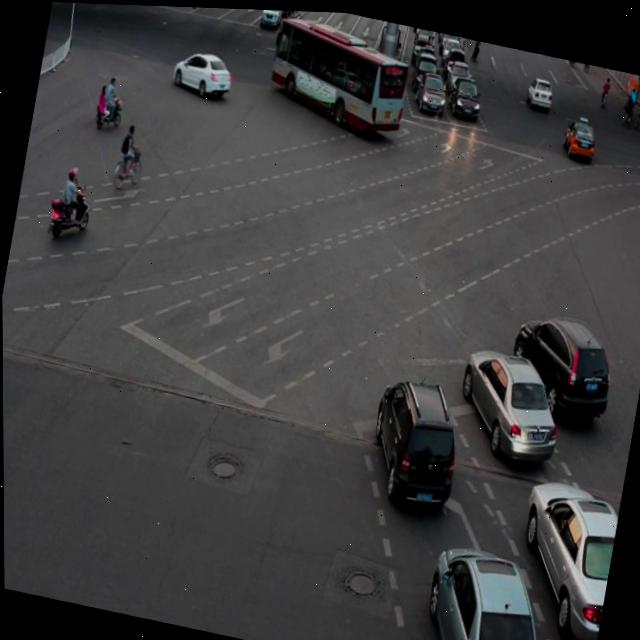car: (502, 466, 623, 640), (411, 532, 561, 640), (448, 336, 568, 463), (361, 366, 468, 507), (502, 301, 619, 421), (169, 42, 236, 101)
van: (264, 13, 413, 137)
